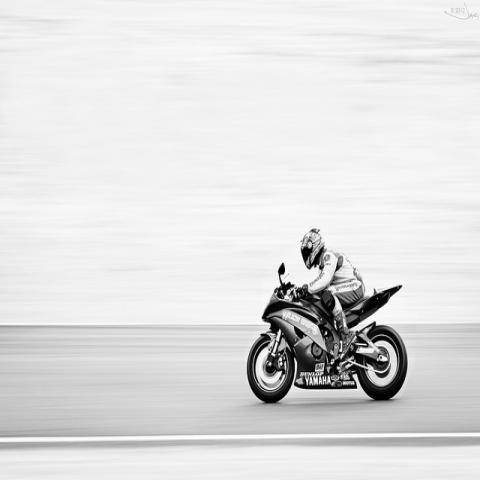motorcycle: (246, 263, 408, 403)
